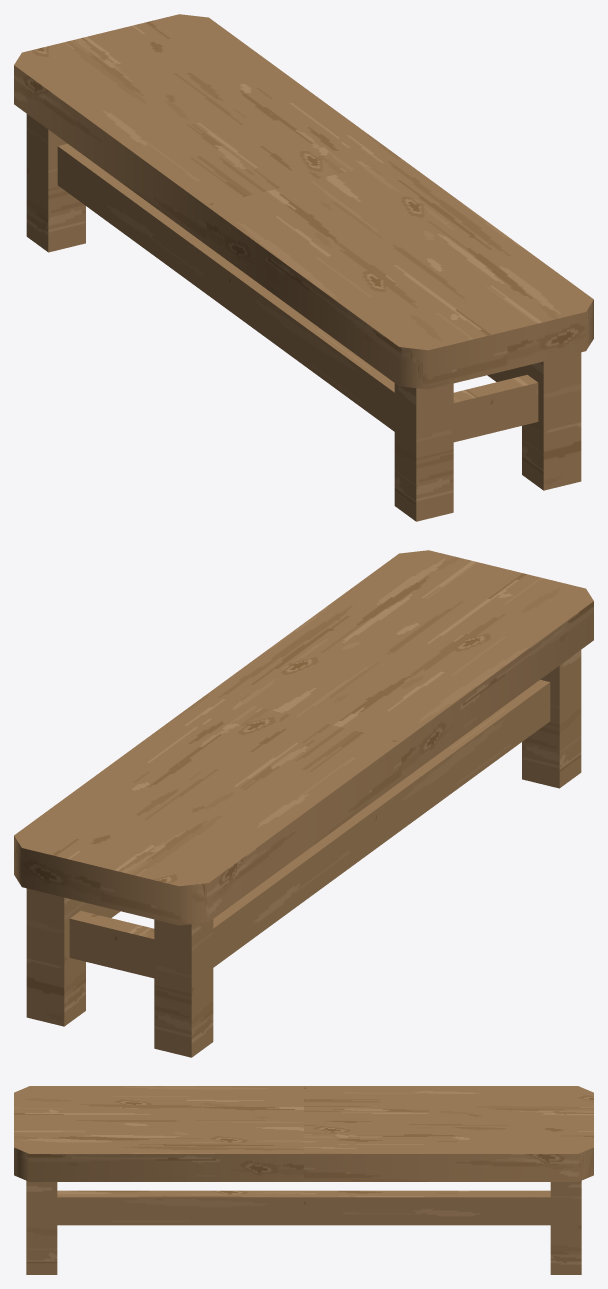
The model's file is stall-bench.gltf.
3 renders of one model, top to bottom at view 1: azimuth 30°, elevation 25°; view 2: azimuth 150°, elevation 25°; view 3: azimuth 270°, elevation 25°, orthographic. The views are drawn at different scales.
Parts seen in each view (by area): view 1: stall-bench; view 2: stall-bench; view 3: stall-bench.
Boxes of the visible parts, left/top/right/bottom form: stall-bench: left=14, top=14, right=593, bottom=521; stall-bench: left=14, top=550, right=593, bottom=1057; stall-bench: left=14, top=1086, right=593, bottom=1274.
Bounding box in the file's own units: 0.26 × 0.2255 × 0.94.
Materials: 1 (1 with a texture image).
